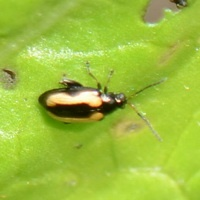insect: (38, 62, 126, 122)
